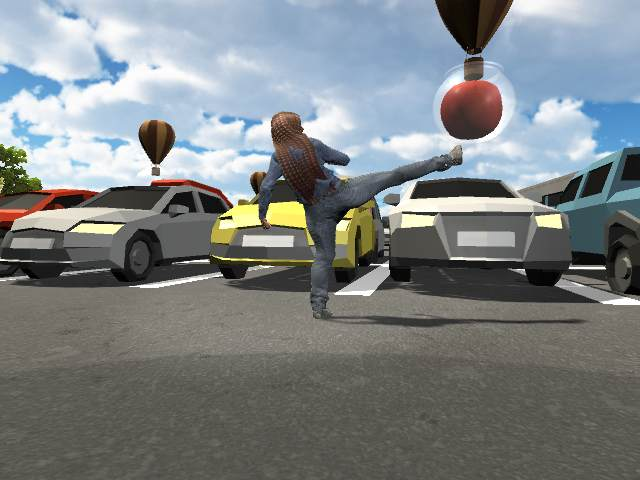turn_right: (260, 113, 467, 321)
